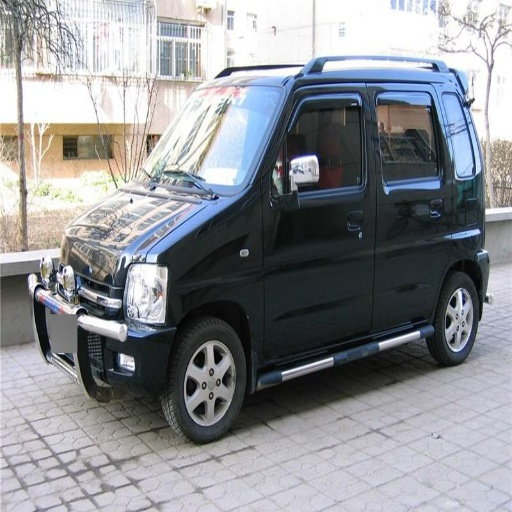front_bumper: (75, 309, 176, 389), (67, 240, 132, 288)
front_glass: (142, 85, 284, 198)
front_left_door: (265, 82, 374, 368)
